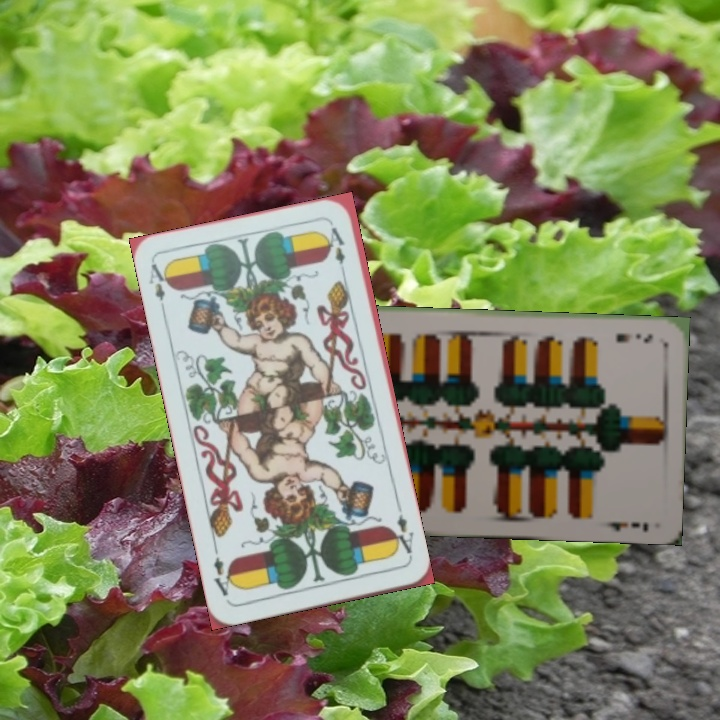E7: (613, 328, 655, 345)
EA: (387, 503, 416, 561), (145, 259, 174, 303)
